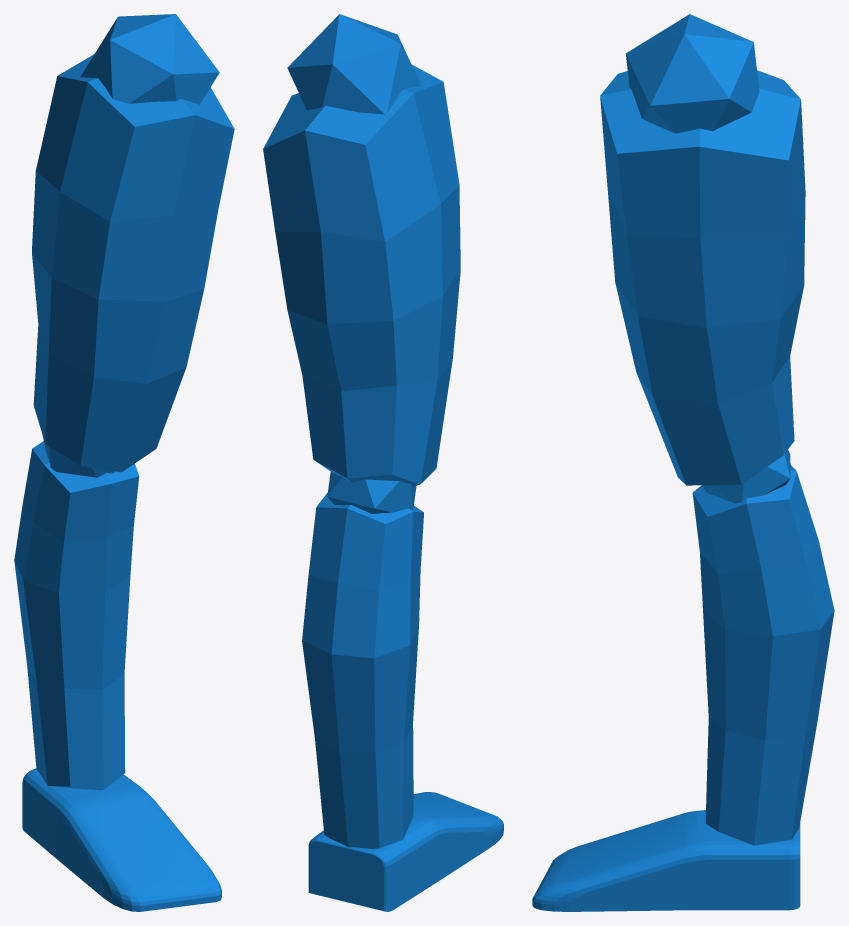
File: left_leg.fbx
3 views of the same model, side by side, from view 1: azimuth 30°, elevation 25°; view 2: azimuth 150°, elevation 25°; view 3: azimuth 270°, elevation 25° (orthographic). The views are drawn at different scales.
Visible parts, largest first — view 1: LEFT_LEG; view 2: LEFT_LEG; view 3: LEFT_LEG.
Part boxes in pixels (x1,y1,x2,y2): LEFT_LEG: (14, 14, 234, 911); LEFT_LEG: (263, 14, 503, 911); LEFT_LEG: (532, 14, 834, 911).
Size of the model in its own units: 0.3449 by 1.78 by 0.5486.
